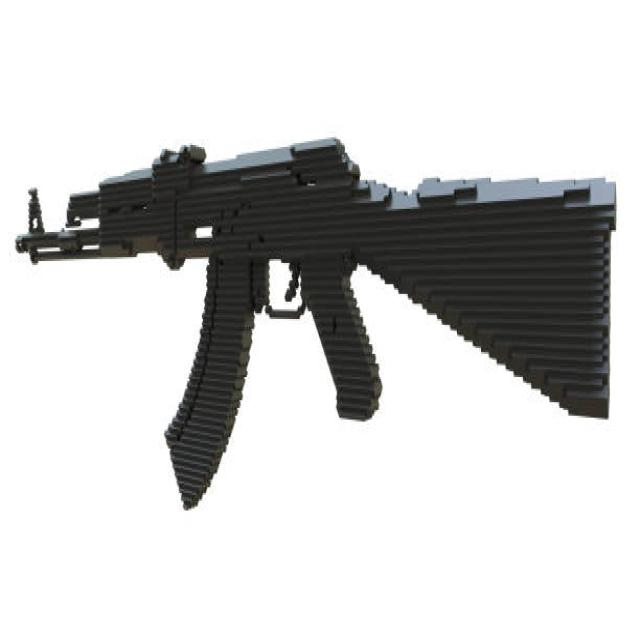rifle: (12, 124, 621, 517)
